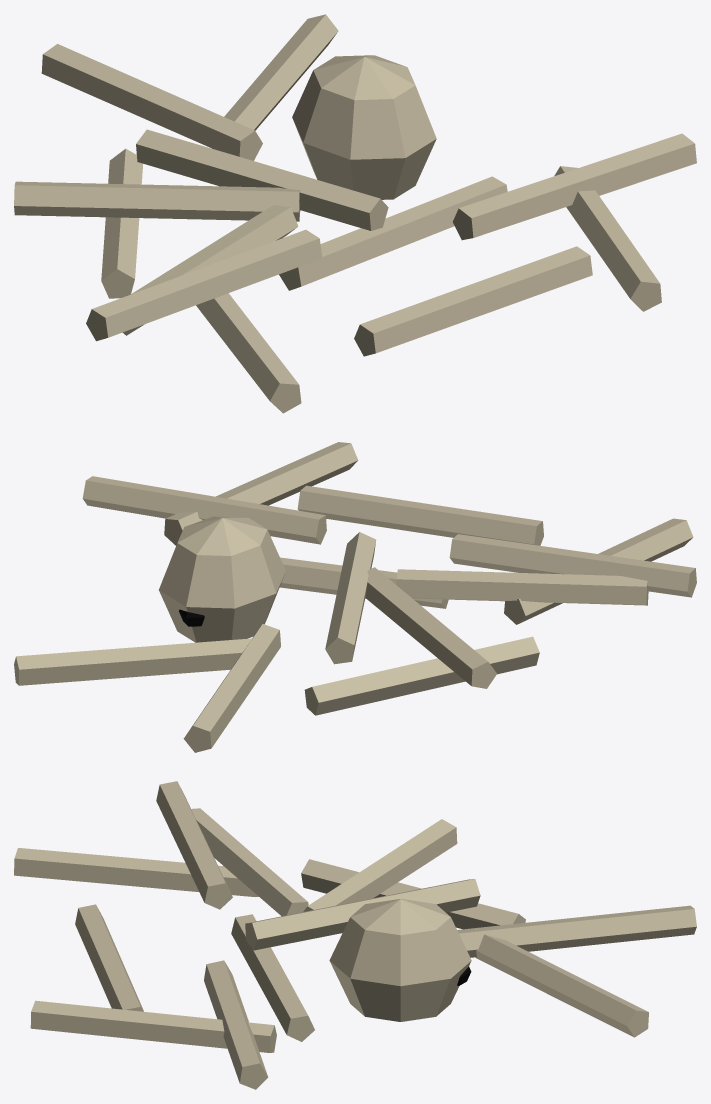
The model's file is bones.glb.
3 views of the same model, one above another, from view 1: azimuth 30°, elevation 25°; view 2: azimuth 150°, elevation 25°; view 3: azimuth 270°, elevation 25° (orthographic). The views are drawn at different scales.
Visible parts, largest first — view 1: bones; view 2: bones; view 3: bones.
Part boxes in pixels (x1,y1,x2,y2): bones: (14, 14, 696, 413); bones: (14, 442, 696, 752); bones: (14, 781, 696, 1089).
Bounding box in the file's own units: 1.04 × 0.22 × 1.11.
